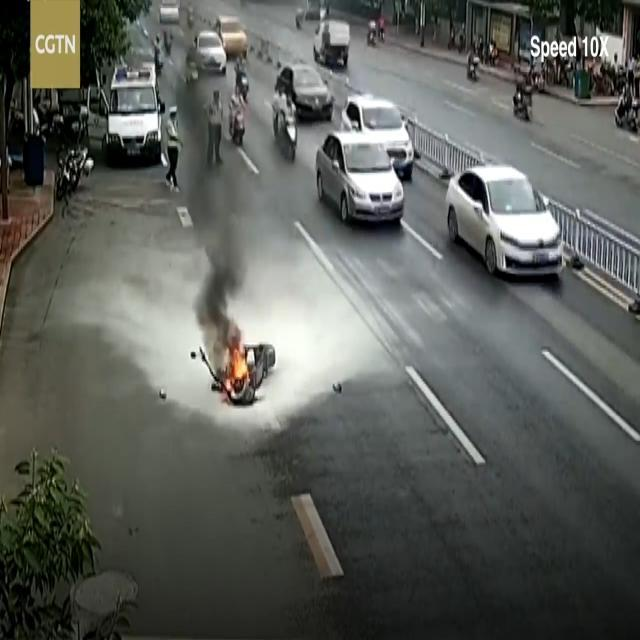Fire: (224, 348, 250, 394)
Smoke: (178, 82, 244, 353)
